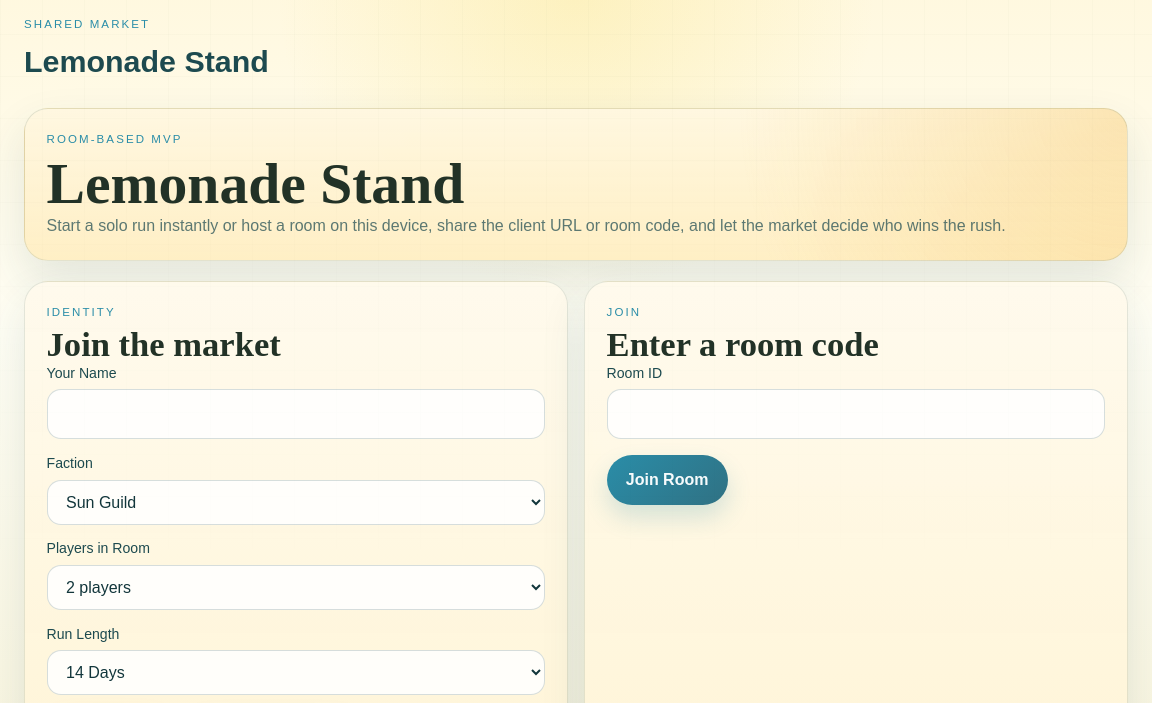
Test: App › updates the ingredient cost per cup when the recipe changes
Step 1. Type "Alex" into the field labelled "Your Name" → coordinates (296, 414), box [47, 389, 545, 439]
(page scrolled)
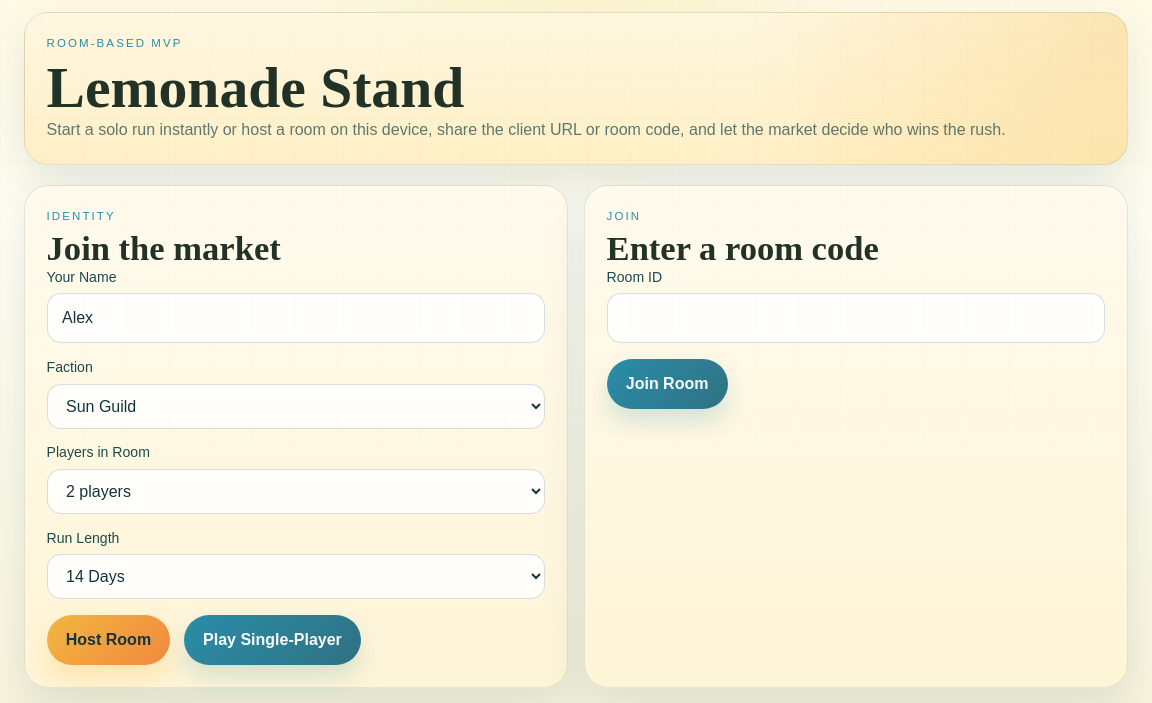
Step 2. Click the button "Host Room" → coordinates (108, 640), box [47, 615, 170, 665]
(page scrolled)
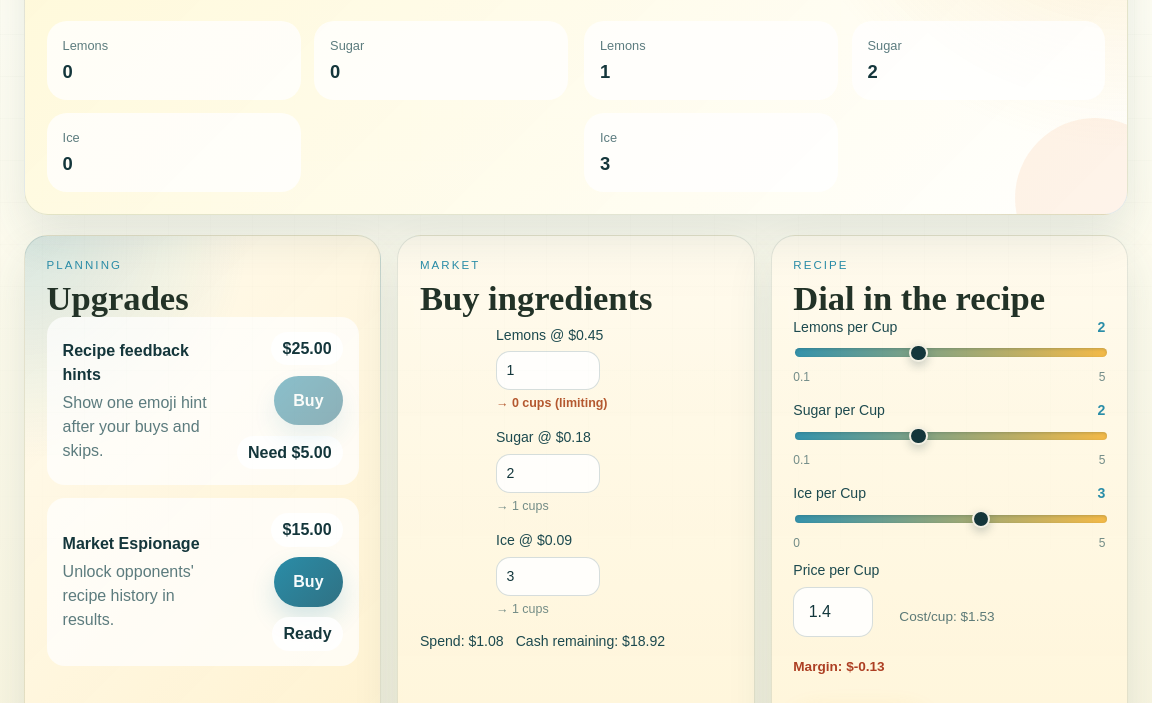
Now the text "Cost/cup: $1.53" is shown, box [899, 607, 994, 627]
Step 3. Set the slider labelled "Lemons per Cup 2 0.1 5" to "3" → coordinates (979, 353), box [795, 348, 1108, 357]
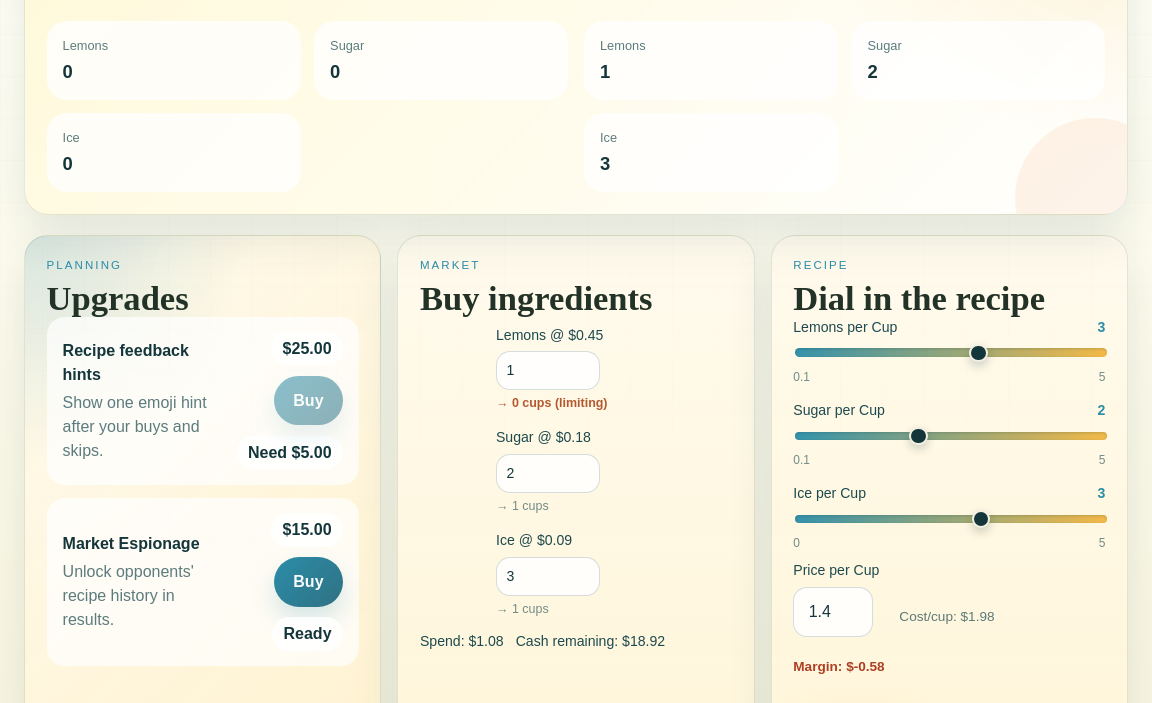
Now the text "Cost/cup: $1.98" is shown, box [899, 607, 994, 627]
